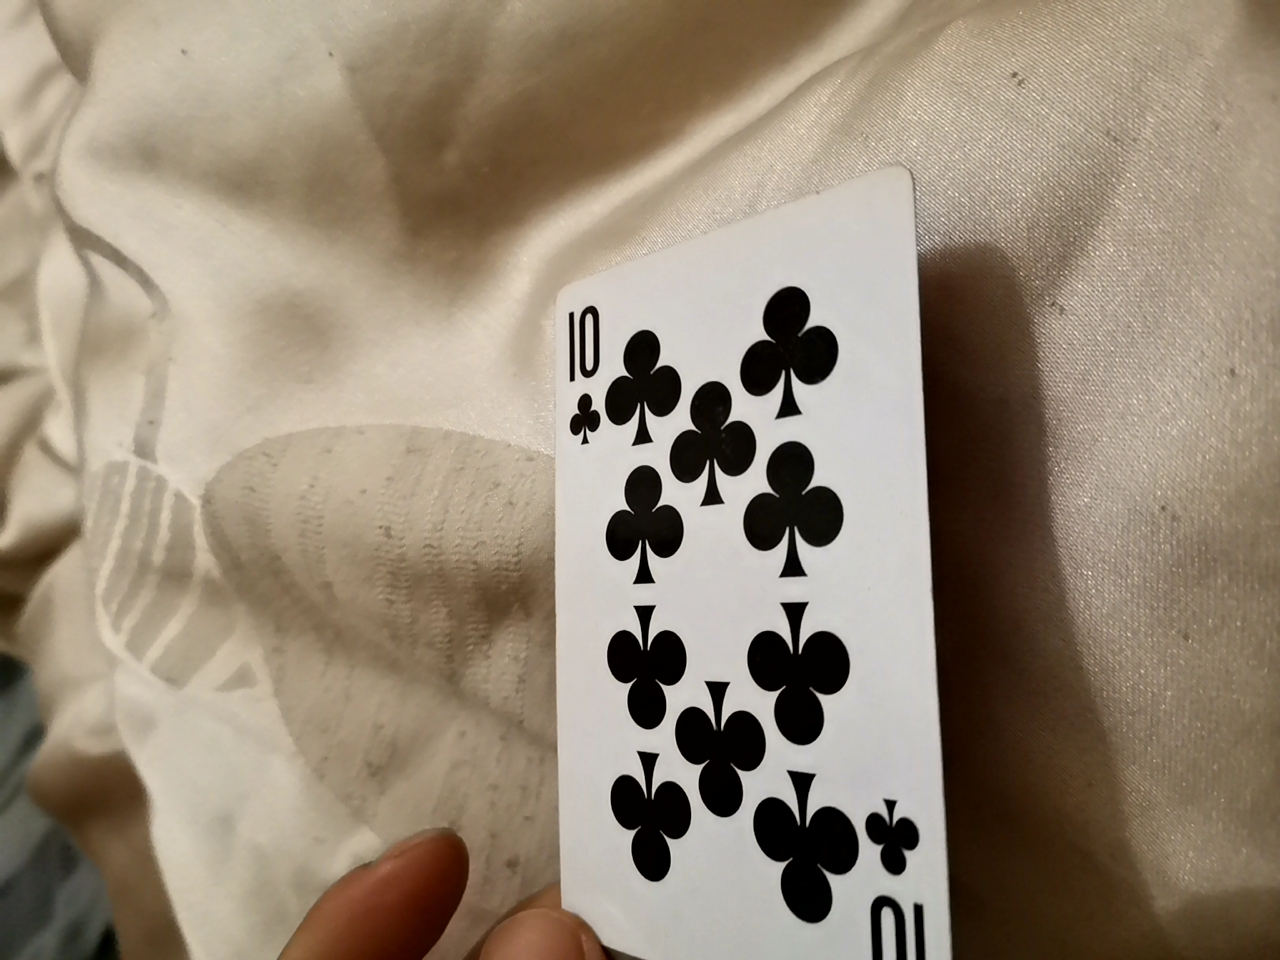mh 10: (491, 195, 978, 933)
